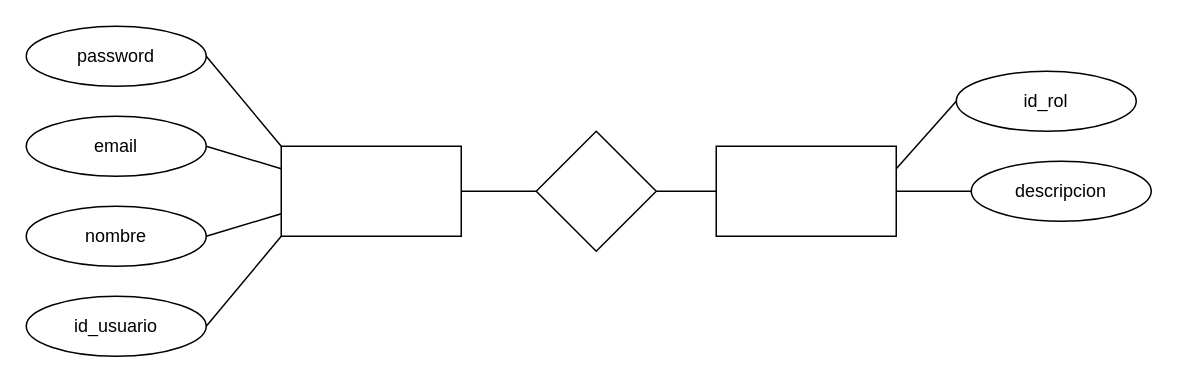
Image size: 1178x383. Some labels were removed from this diagram. The box of each missing label's shape, as (x1, y1, x2, y2) in pixels:
roles: (715, 145, 896, 236)
usuarios: (280, 145, 461, 236)
